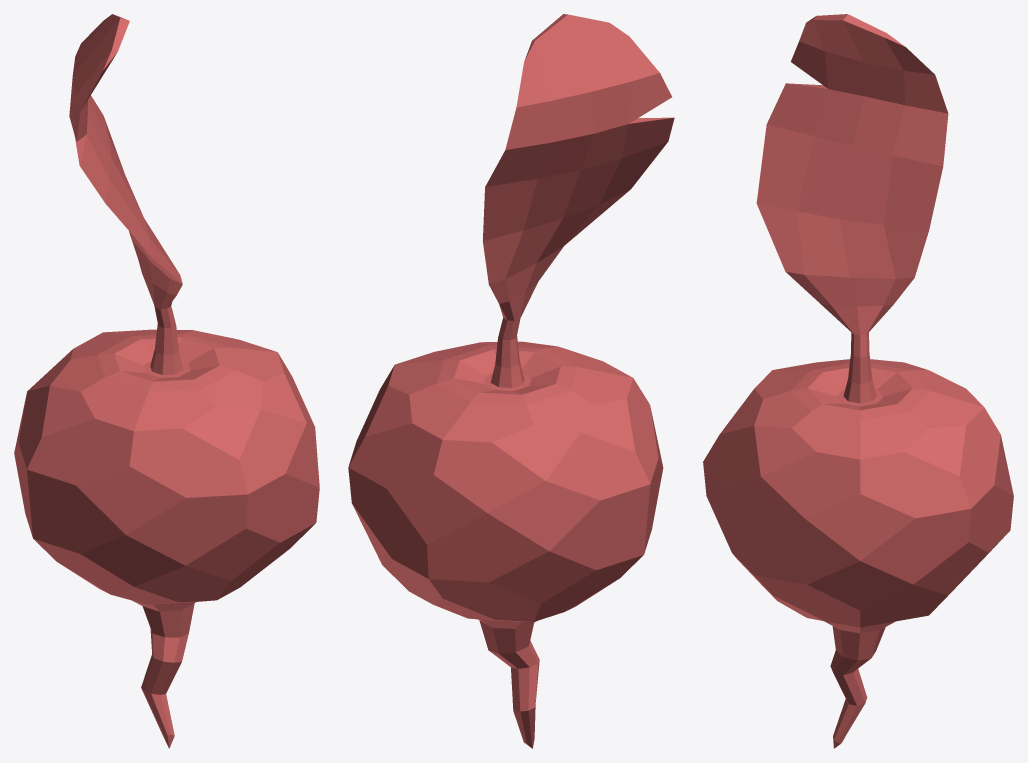
File: turnip.fbx
3 views of the same model, side by side, from view 1: azimuth 30°, elevation 25°; view 2: azimuth 150°, elevation 25°; view 3: azimuth 270°, elevation 25° (orthographic). The views are drawn at different scales.
Visible parts, largest first — view 1: turnip_geo; view 2: turnip_geo; view 3: turnip_geo.
Boxes of the visible parts, x1,y1,x2,y2 form: turnip_geo: [14, 14, 319, 748]; turnip_geo: [348, 14, 674, 748]; turnip_geo: [703, 14, 1013, 748].
Size of the model in its own units: 4.3 by 10.91 by 4.3.
